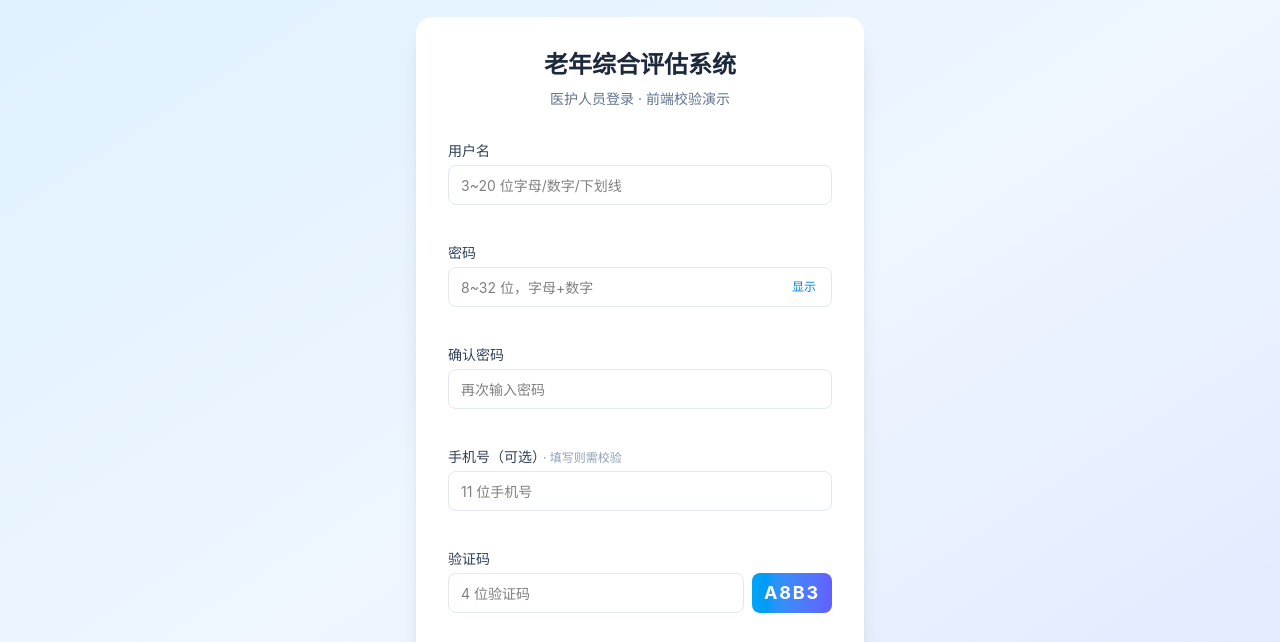
Scenario: LoginForm › 填对所有字段后点击提交显示 ✅ 成功
Type "staff01" into the field with placeholder "3~20 位字母/数字/下划线" at (640, 185), box [448, 165, 832, 205]
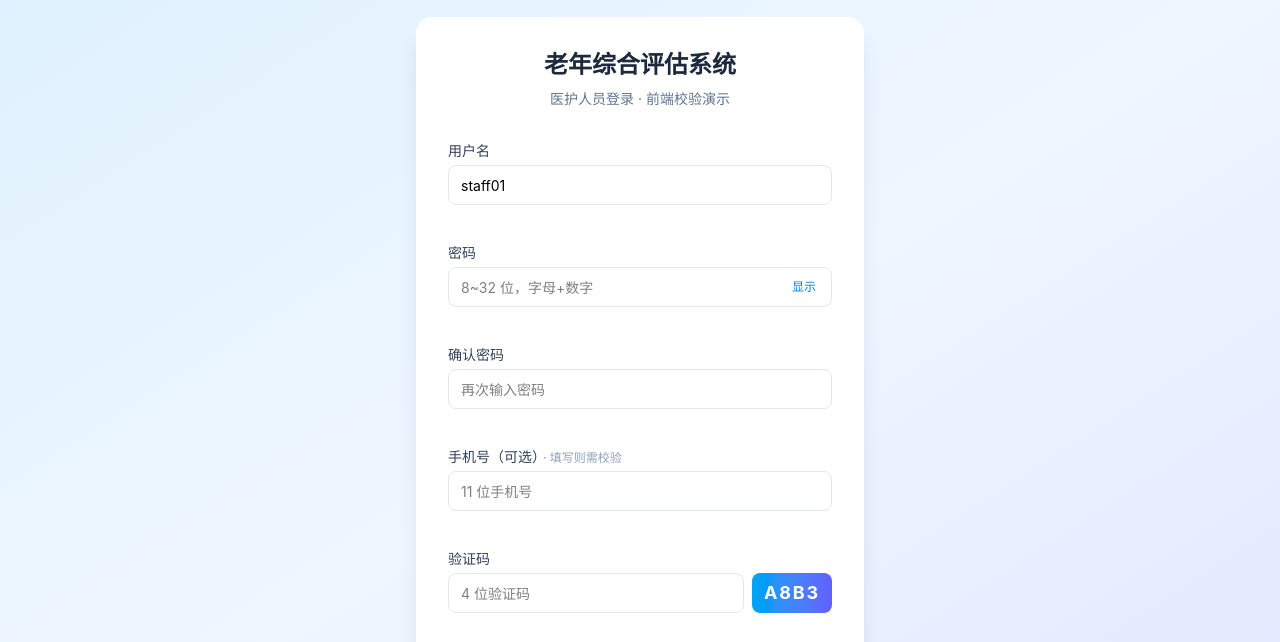
Type "Admin123" into the password field with placeholder "8~32 位，字母+数字" at (640, 287), box [448, 267, 832, 307]
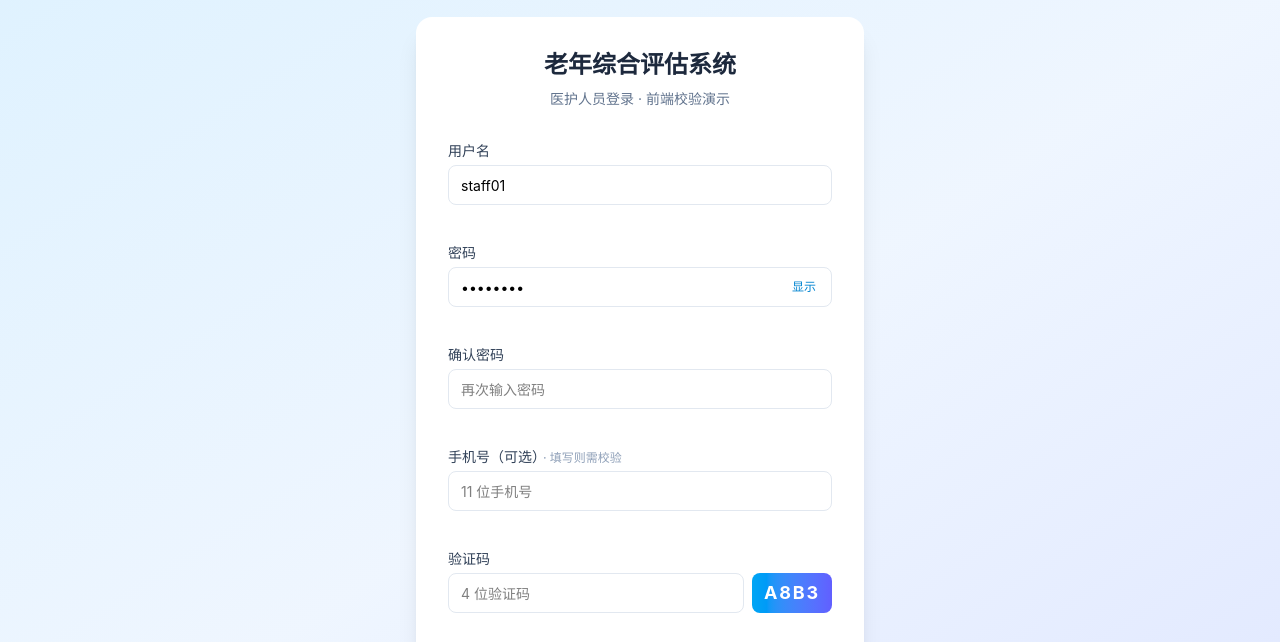
Type "Admin123" into the password field with placeholder "再次输入密码" at (640, 389), box [448, 369, 832, 409]
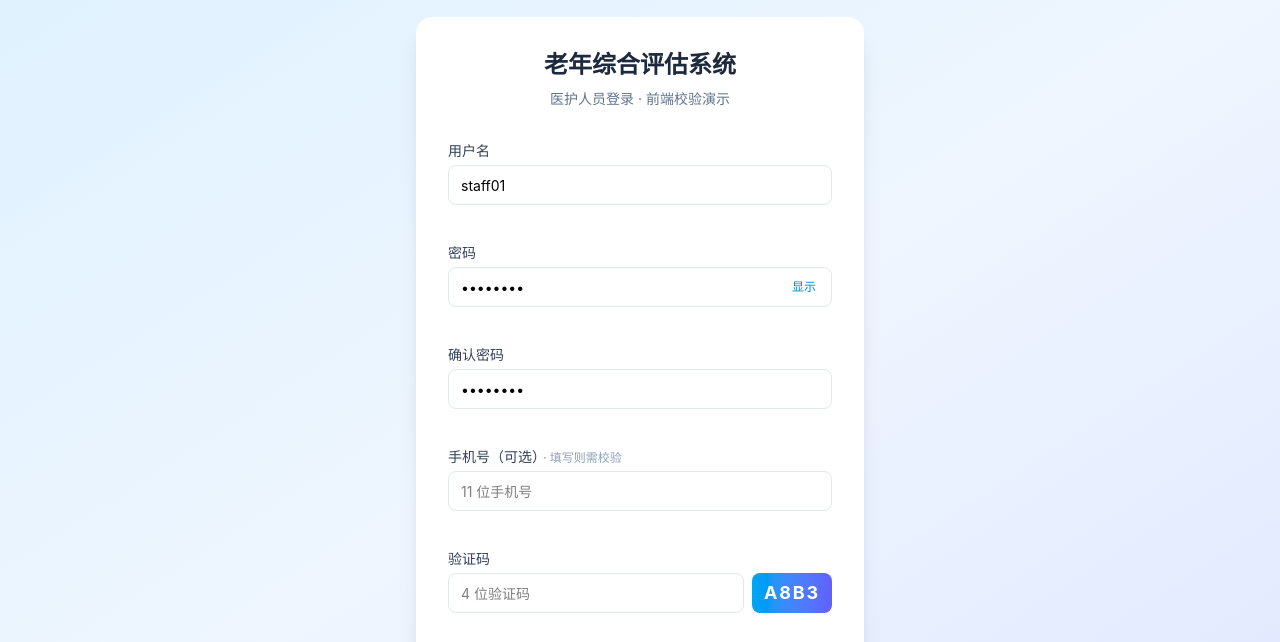
Type "13800138000" into the field with placeholder "11 位手机号" at (640, 491), box [448, 471, 832, 511]
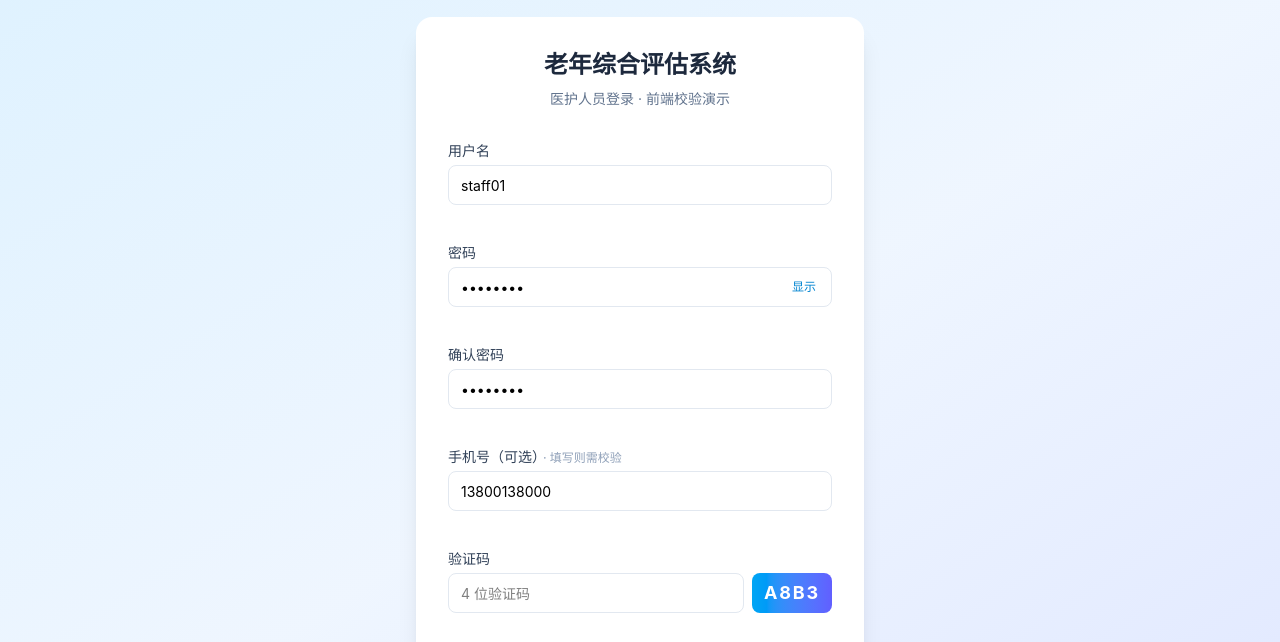
Type "a8b3" into the field with placeholder "4 位验证码" at (596, 593), box [448, 573, 744, 613]
(page scrolled)
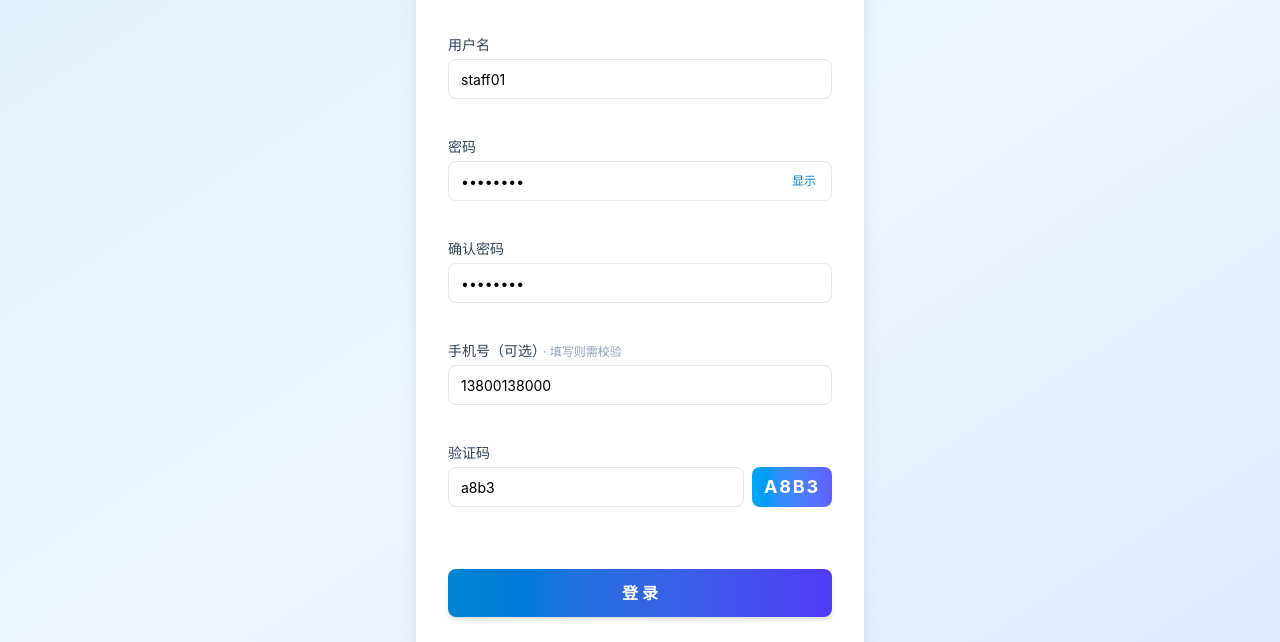
Click the button "登 录" at (640, 593), box [448, 569, 832, 617]
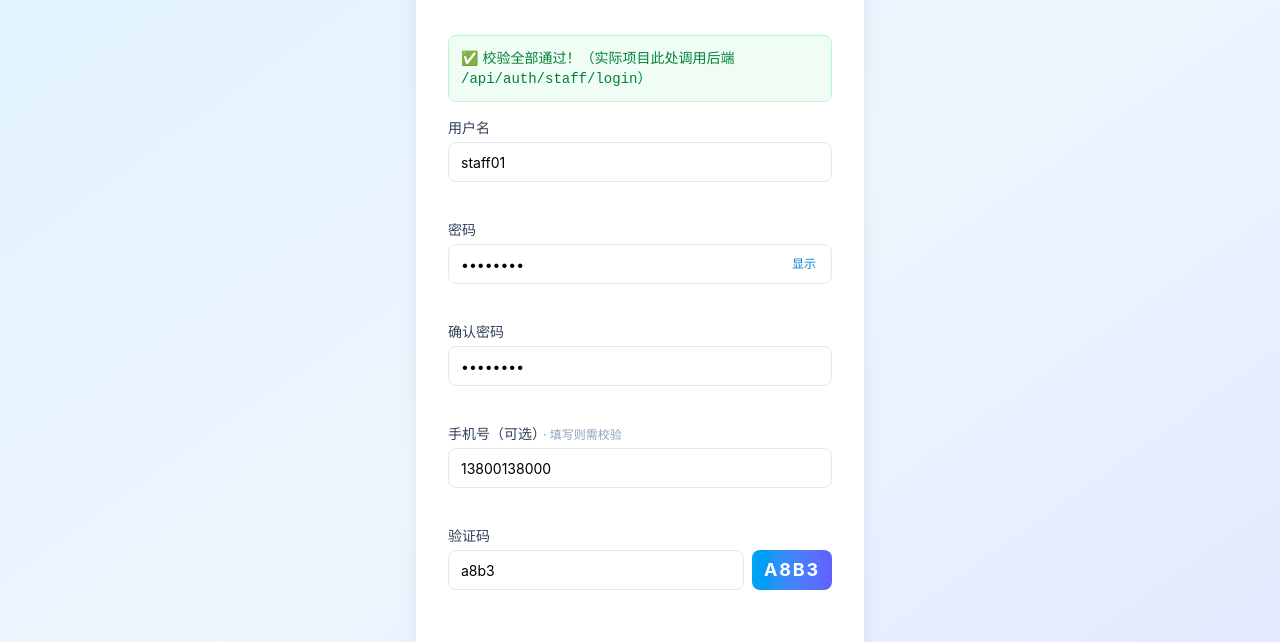
Now the text "✅ 校验全部通过！（实际项目此处调用后端 /api/auth/staff/login）" is shown, box [448, 35, 832, 102]
